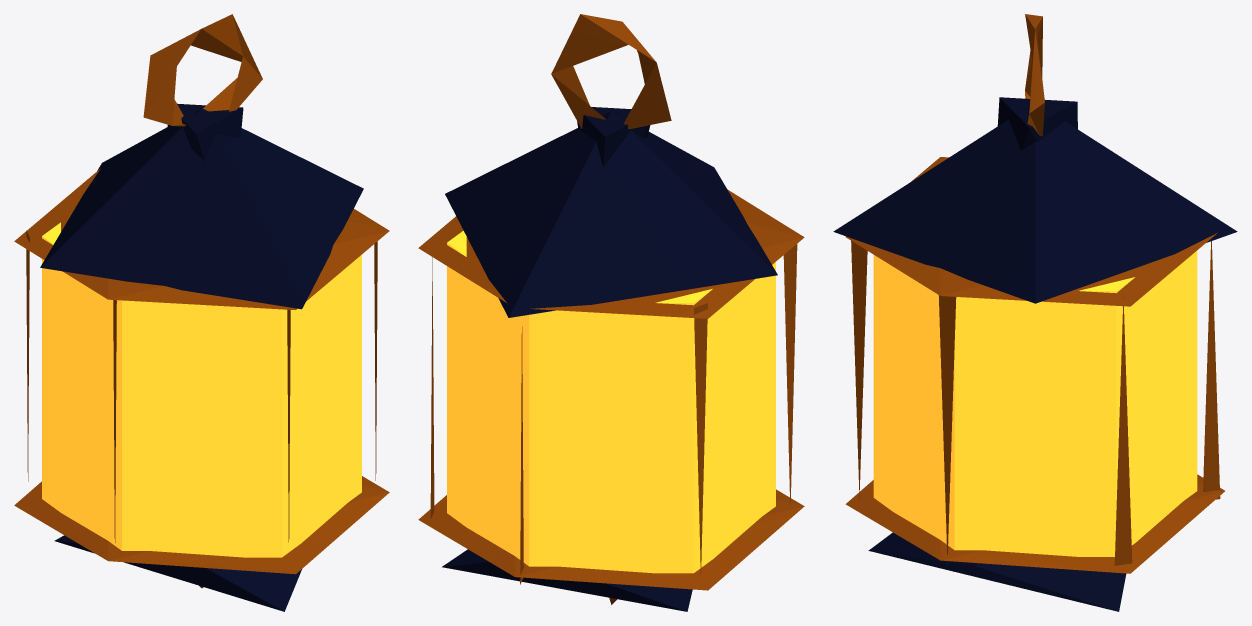
File: tb_lantern.three-web-toon.lod25.glb
The picture shows the model from 3 angles, left to right: view 1: azimuth 30°, elevation 25°; view 2: azimuth 150°, elevation 25°; view 3: azimuth 270°, elevation 25°; orthographic projection. The views are drawn at different scales.
Parts seen in each view (by area): view 1: lantern_body_lod; view 2: lantern_body_lod; view 3: lantern_body_lod.
Part boxes in pixels (bbox=[...]): lantern_body_lod: bbox=[14, 14, 389, 611]; lantern_body_lod: bbox=[418, 14, 804, 611]; lantern_body_lod: bbox=[833, 14, 1237, 611].
Bounding box in the file's own units: 0.271 × 0.4533 × 0.2898.
